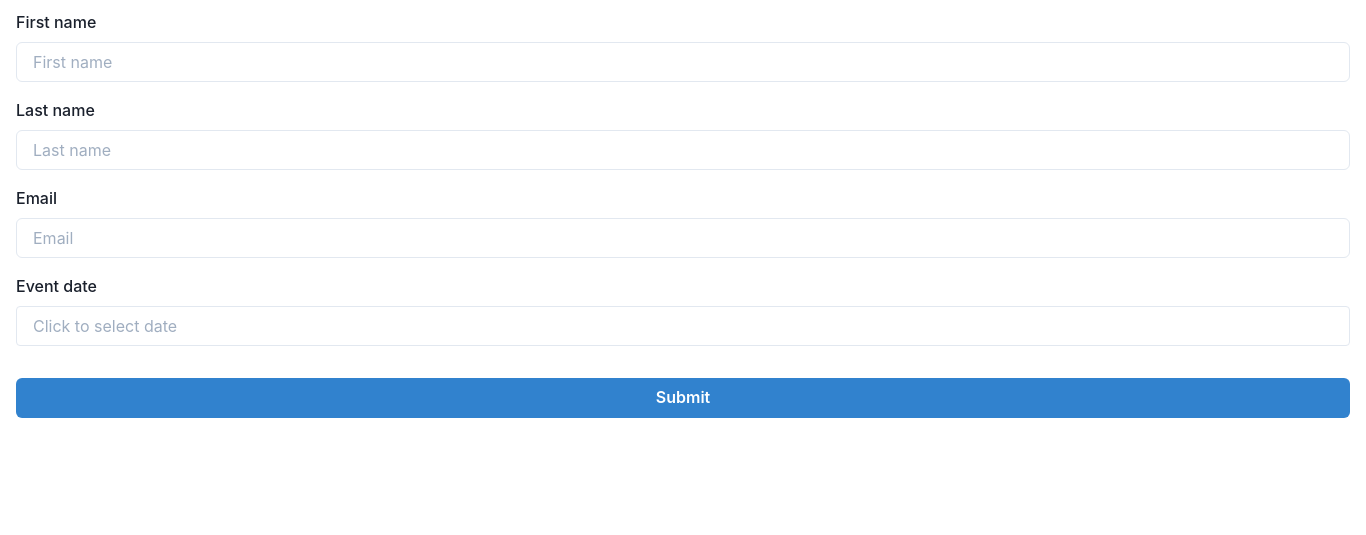
EventForm › should display minimum length error on short name
Type "a" into the field labelled "First name" at (683, 62), box [16,42,1350,82]
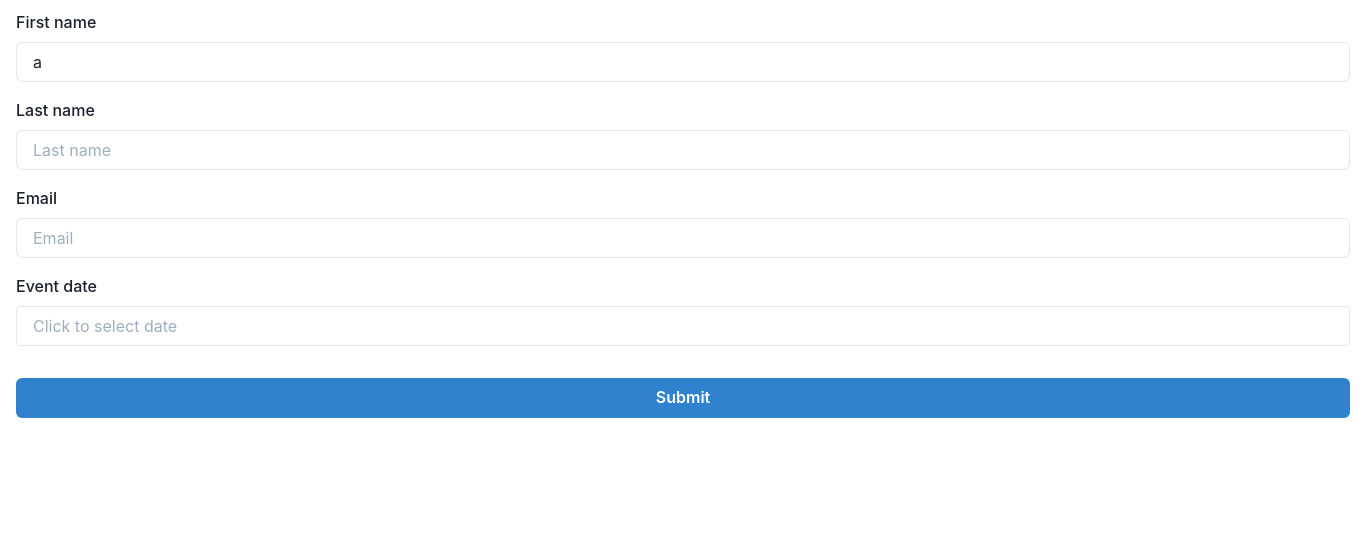
Submit the form from the button, box [16,378,1350,418]
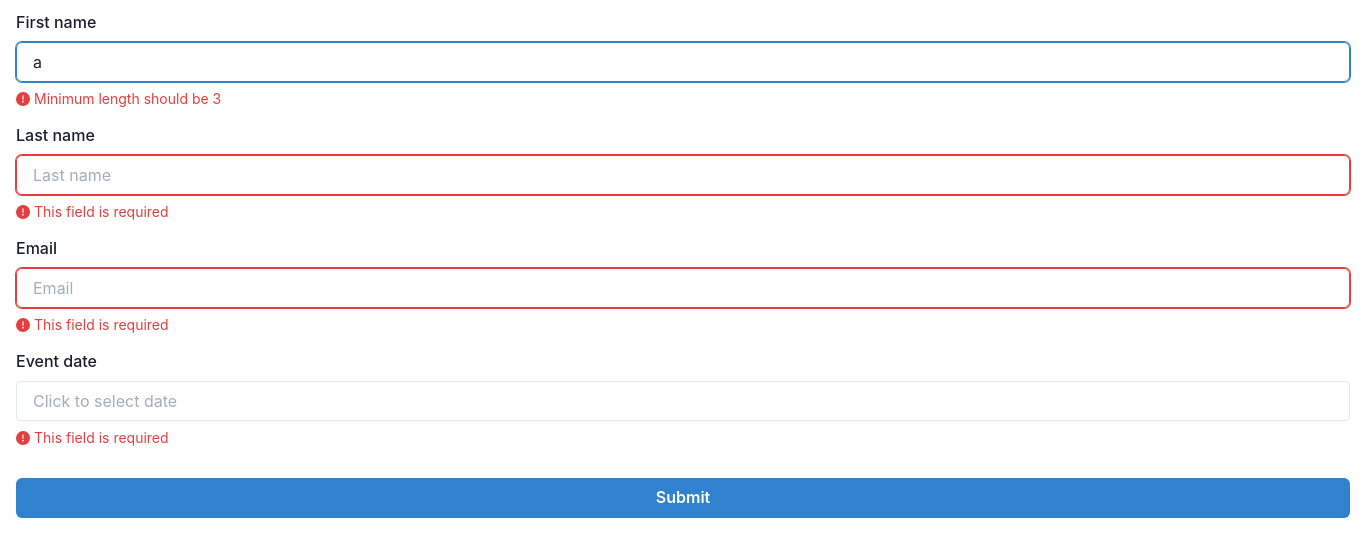
Now the text "Minimum length should be 3" is shown, box [16,90,221,107]
